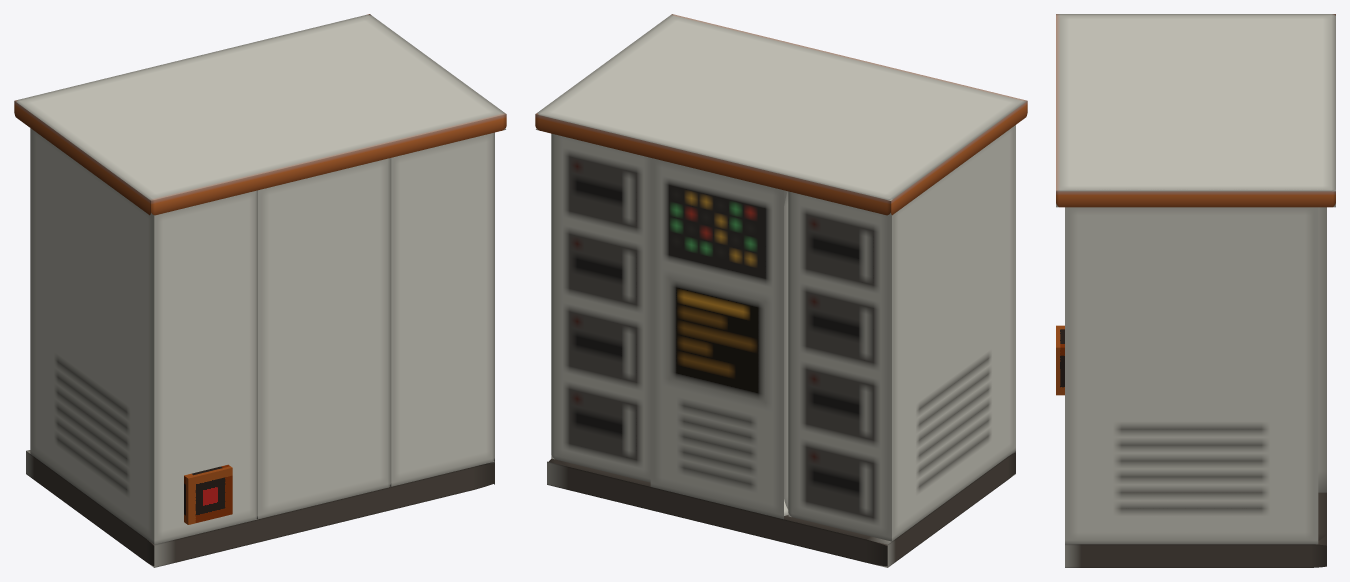
Rendered from era5_crafting_computer_double_sided.obj.
3 views of the same model, side by side, from view 1: azimuth 30°, elevation 25°; view 2: azimuth 150°, elevation 25°; view 3: azimuth 270°, elevation 25° (orthographic). The views are drawn at different scales.
Parts seen in each view (by area): view 1: era5_crafting_computer; view 2: era5_crafting_computer; view 3: era5_crafting_computer.
Part boxes in pixels (x1,y1,x2,y2): era5_crafting_computer: [14, 14, 506, 567]; era5_crafting_computer: [535, 14, 1027, 567]; era5_crafting_computer: [1056, 14, 1335, 567].
Size of the model in its own units: 3 by 3 by 2.
